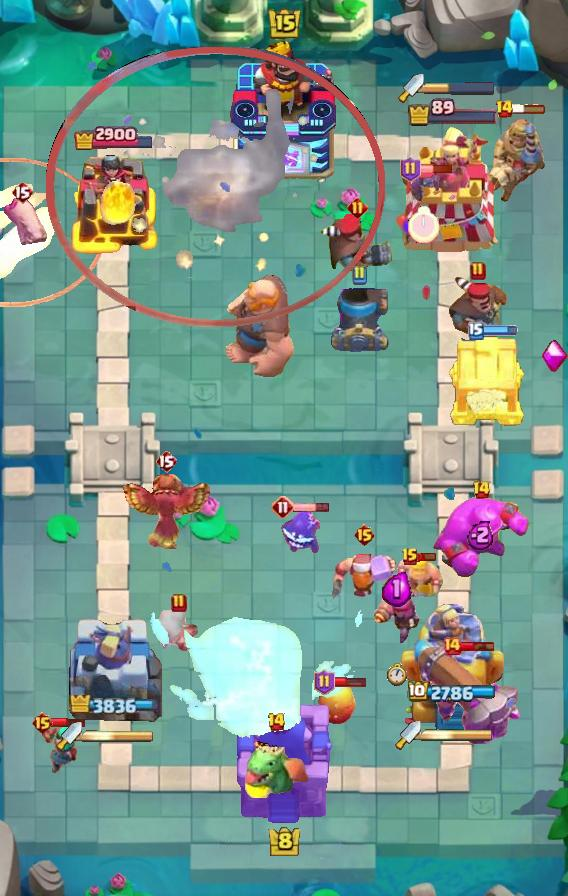archer: (396, 556, 444, 600)
balloon: (224, 271, 298, 379)
bar: (394, 126, 512, 256), (398, 595, 508, 731), (66, 611, 162, 731)
barbarian-barrel: (408, 173, 440, 203)
bomb: (447, 333, 527, 427)
clone: (431, 495, 531, 579)
electro-spirit: (382, 569, 412, 607), (467, 518, 495, 549)
electro-wizard: (242, 728, 310, 798)
elixir: (408, 206, 440, 244), (387, 662, 407, 686)
emote: (511, 103, 547, 115), (460, 640, 496, 652), (333, 676, 367, 688), (294, 502, 331, 513), (482, 325, 518, 336), (51, 717, 87, 728), (419, 164, 454, 174), (417, 551, 437, 562)
furnace: (415, 642, 521, 748)
giant: (0, 195, 52, 249)
golden-knight: (118, 473, 214, 551)
hog: (317, 682, 357, 726)
ice-wizard: (0, 158, 104, 307)
king-tower: (230, 41, 338, 181), (235, 703, 333, 826)
king-tower-bar: (424, 81, 496, 95), (421, 728, 493, 742), (82, 729, 154, 743)
mega-knight: (149, 596, 366, 742)
mighty-miner: (330, 552, 398, 606)
musketeer: (329, 288, 389, 352)
phoenix-small: (319, 213, 395, 273), (447, 274, 509, 346)
queen-tower: (69, 154, 159, 256)
ram-rider: (482, 114, 548, 204)
royal-ghost: (47, 47, 386, 327)
selected: (407, 98, 499, 126), (73, 124, 155, 150), (408, 680, 498, 703), (69, 695, 159, 715)
skeleton-king-skill: (540, 340, 568, 374)
spear-goblin: (278, 510, 320, 556)
tesla: (155, 604, 203, 656)
text: (271, 495, 295, 519), (399, 156, 421, 182), (352, 523, 375, 547), (31, 711, 54, 735), (314, 669, 335, 695), (11, 180, 33, 204), (155, 449, 177, 473), (348, 197, 369, 219), (494, 99, 514, 119), (442, 636, 462, 656), (473, 480, 492, 500), (266, 712, 285, 732), (401, 547, 419, 567), (470, 261, 486, 281), (351, 265, 367, 285), (171, 593, 187, 613), (468, 322, 484, 340)
tombstone: (373, 586, 421, 648)
valkyrie: (96, 169, 142, 227)
witch: (37, 723, 79, 775)
